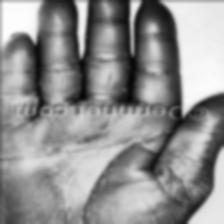Non-Cancerous Skin Condition: (0, 124, 163, 184)
